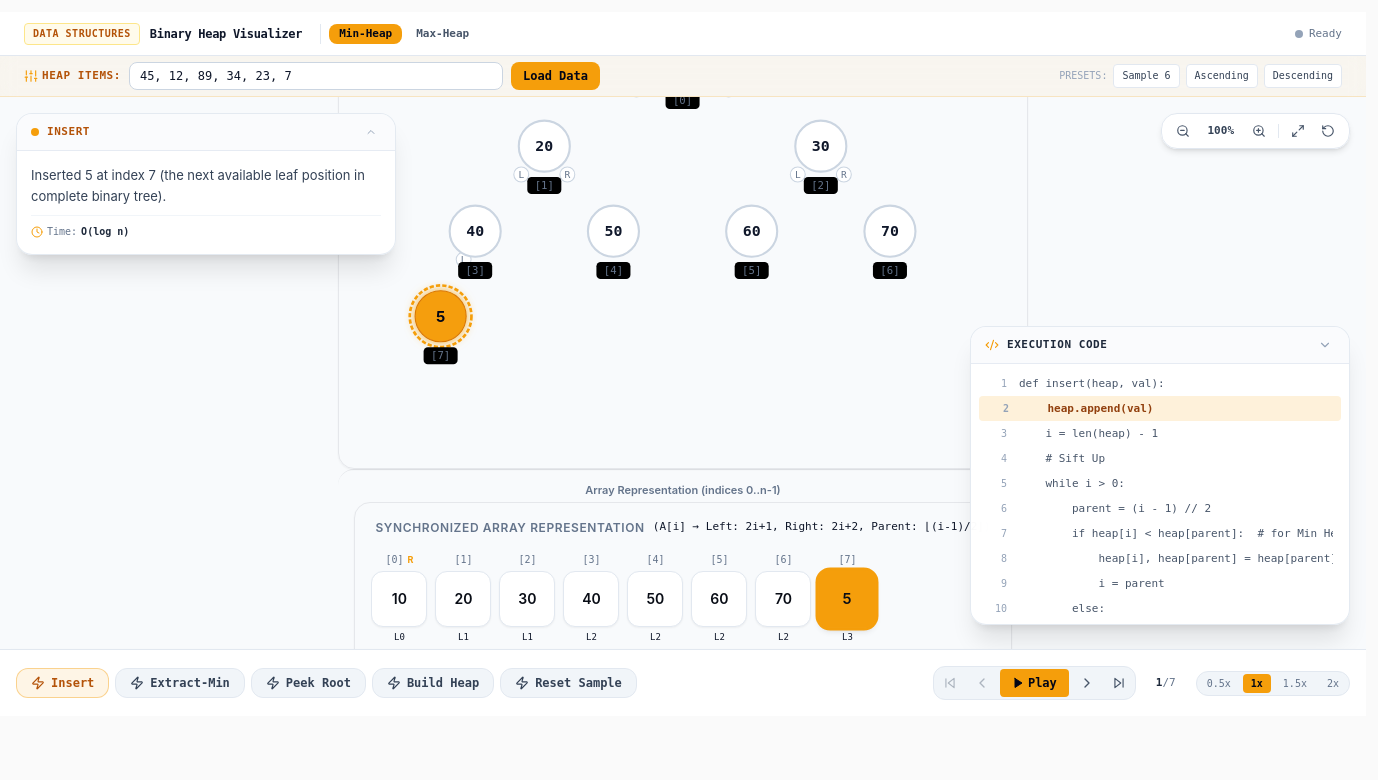
it: Heap & Priority Queue Visualizer Components › should switch between Min Heap and Max Heap modes
The image size is (1378, 780).
Click the button "Max-Heap".
click(443, 34)  # box [406, 24, 479, 44]
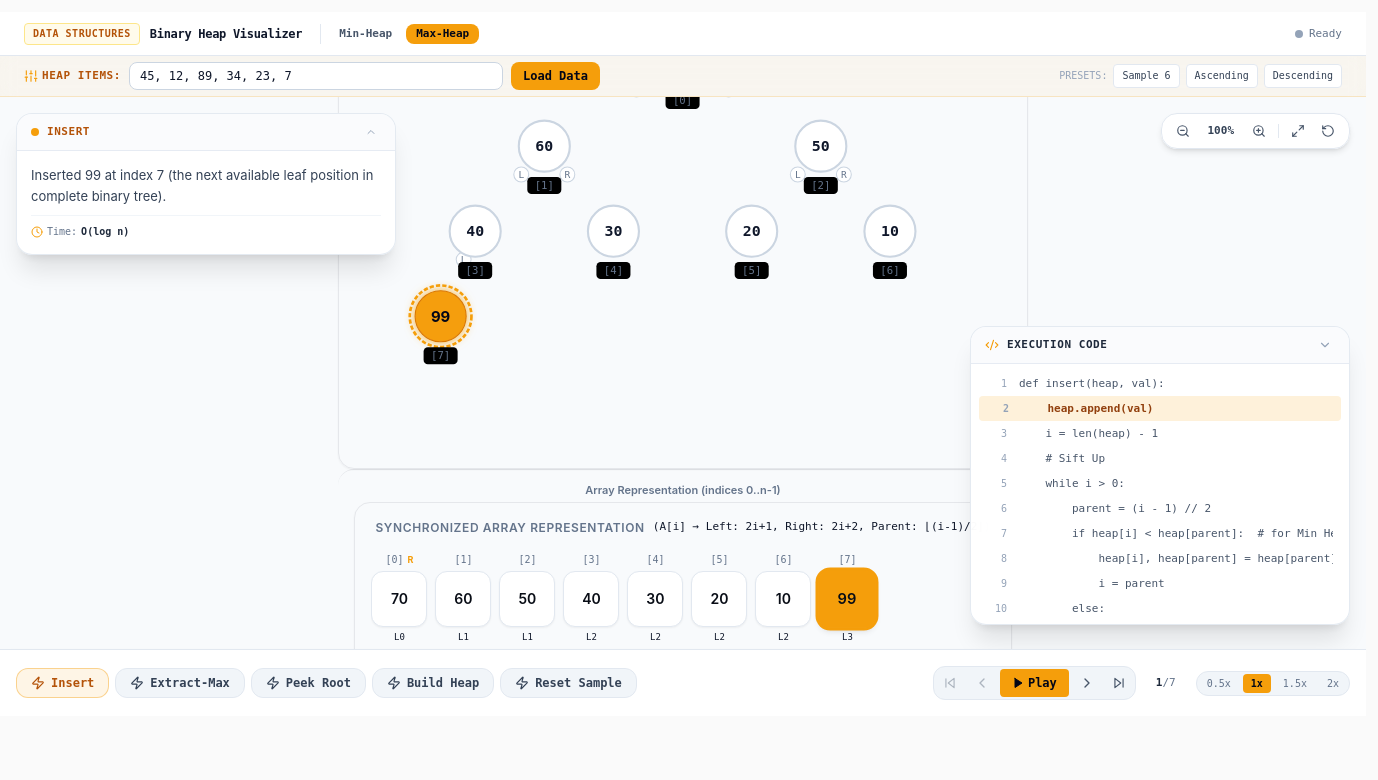
Now the button "Extract-Max" is shown, box [115, 668, 245, 698]
